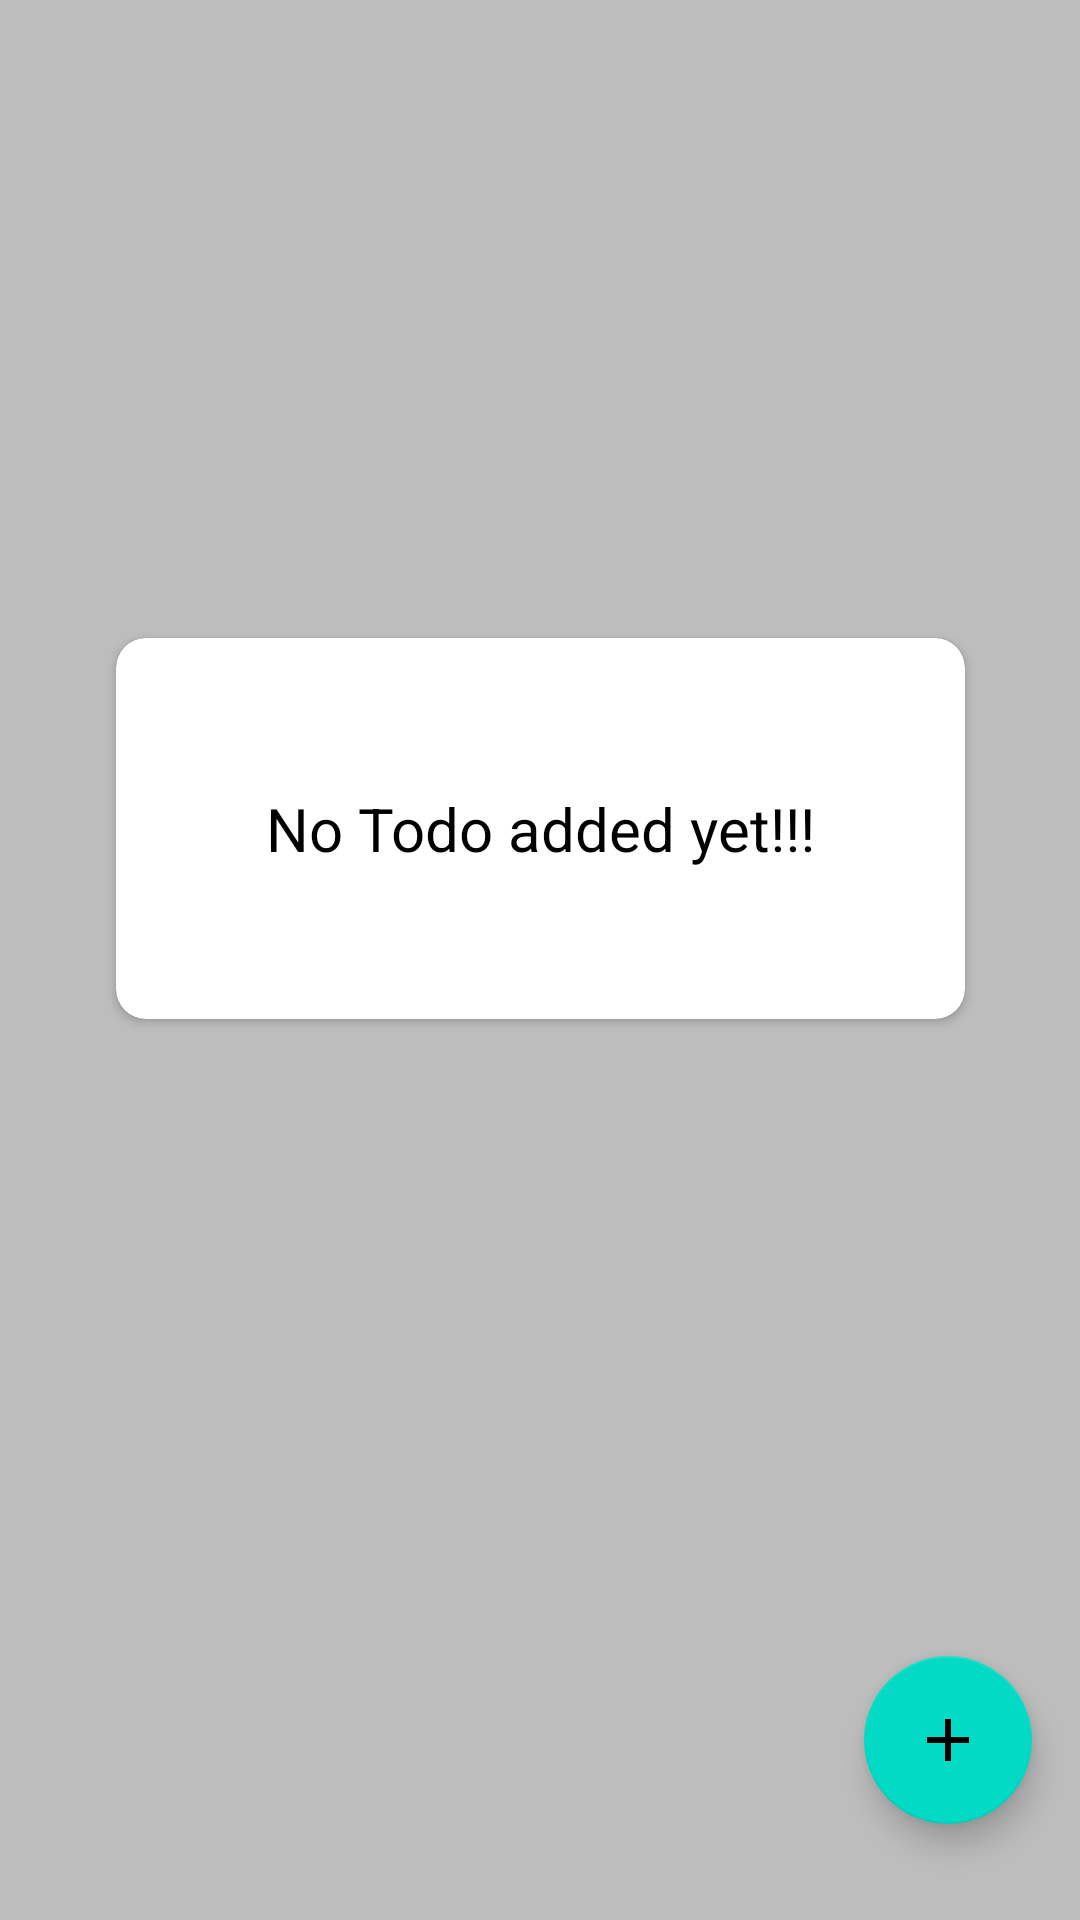

Screen size 1080x1920. Icon name, then its box in pixels as (x1, y1, x2, y2):
add: (864, 1656, 1032, 1824)
